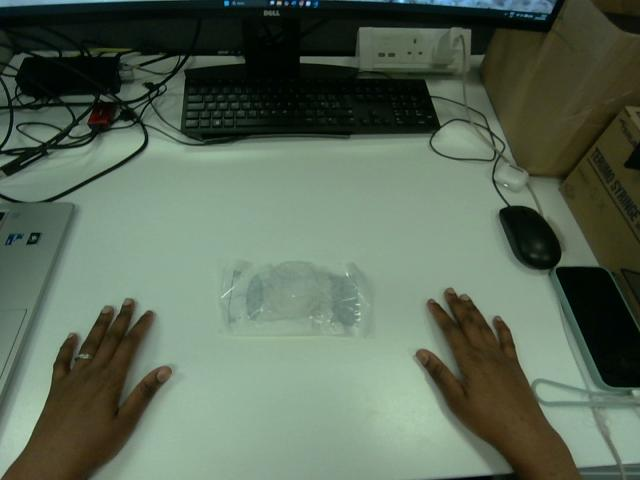gallipot: (221, 261, 370, 336)
